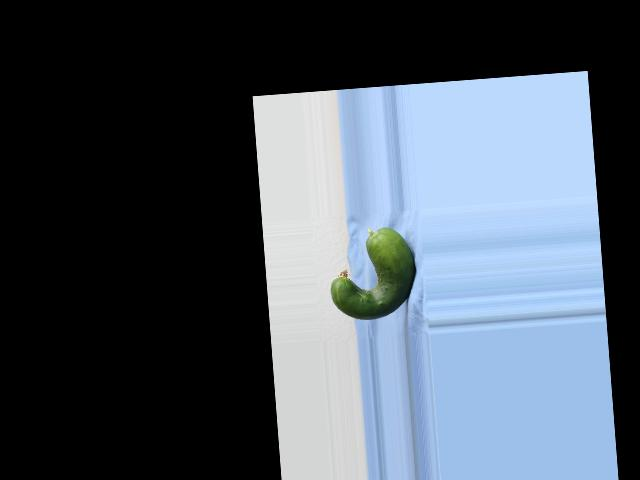cucumber: (326, 225, 418, 322)
